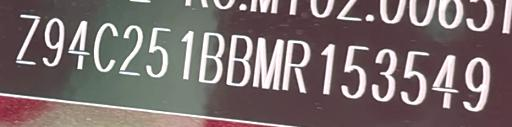letter: (459, 53, 491, 112), (281, 37, 313, 94), (251, 37, 285, 90), (196, 30, 226, 87), (339, 42, 369, 99), (400, 48, 430, 105), (429, 52, 459, 109), (225, 33, 253, 92), (145, 23, 173, 80), (370, 48, 398, 105), (92, 20, 120, 75), (118, 22, 144, 81), (13, 13, 41, 66), (66, 18, 92, 73), (42, 16, 66, 67), (176, 27, 196, 84), (316, 41, 336, 96)
